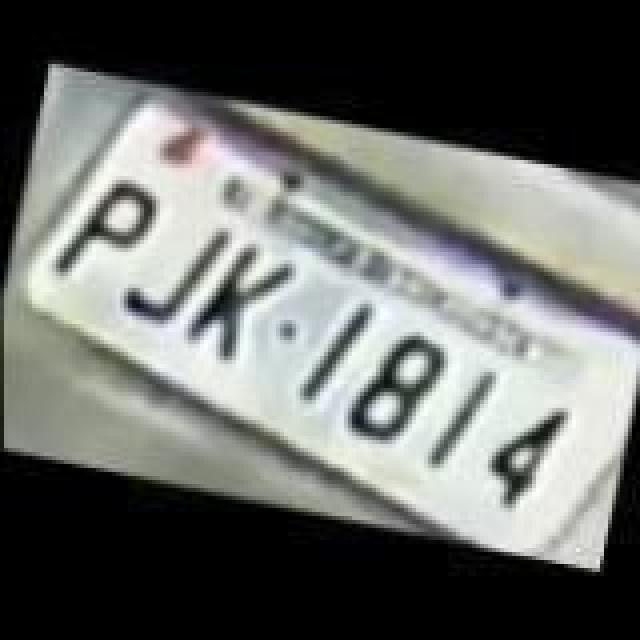1: (290, 284, 378, 416), (408, 354, 496, 478)
4: (470, 392, 570, 520)
8: (334, 316, 450, 452)
J: (110, 204, 230, 336)
K: (176, 228, 300, 372)
P: (50, 162, 166, 294)
